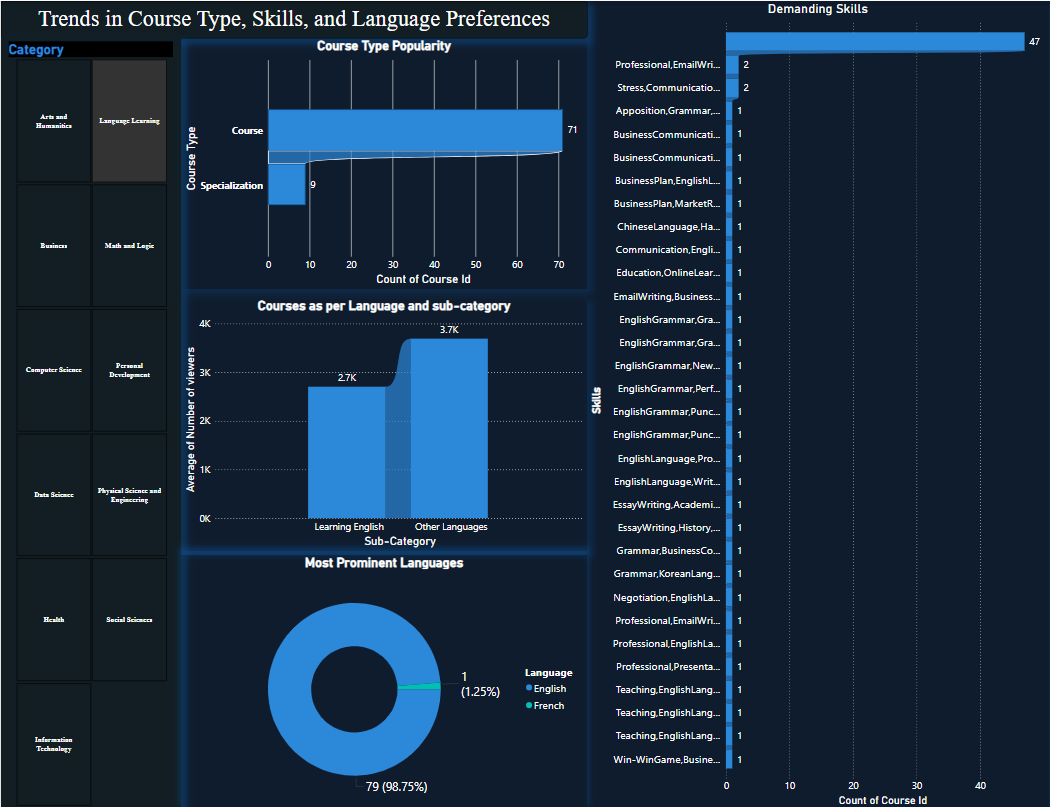

The page's visual inventory and layout, read from the dashboard file:
{"tool":"powerbi","page":{"name":"Page 2","canvas":[1750,1350],"ordinal":0},"visuals":[{"type":"textbox","box":[0,0,978.9,62.6],"z":0},{"type":"slicer","fields":{"Values":["Online_Courses.Category"]},"box":[0,62.6,300.6,1287.8],"z":1000},{"type":"barChart","title":"Course Type Popularity","fields":{"Category":["Online_Courses.Course Type"],"Y":["CountNonNull(Online_Courses.Course Id)"]},"box":[300.6,62.6,678.3,417.4],"z":1001},{"type":"columnChart","title":"Courses as per Language and sub-category","fields":{"Category":["Online_Courses.Sub-Category","Online_Courses.Language"],"Y":["Avg(Online_Courses.Number of viewers)"]},"box":[300.6,496.8,678.3,421.6],"z":1002},{"type":"barChart","title":"Demanding Skills","fields":{"Category":["Online_Courses.Skills"],"Y":["CountNonNull(Online_Courses.Course Id)"]},"box":[978.9,0,770.2,1350.4],"z":1003},{"type":"donutChart","title":"Most Prominent Languages","fields":{"Category":["Online_Courses.Language"],"Y":["CountNonNull(Online_Courses.Course Id)"]},"box":[300.6,924.6,678.3,425.8],"z":1004}]}

Visuals, with their boxes in screenshot pixels (x1, y1, x2, y2), scaled from the page's 1750x1350 canvas onto the 1050x807 screenshot:
textbox: (0, 0, 587, 37)
slicer - Online_Courses.Category: (0, 37, 180, 806)
"Course Type Popularity" barChart: (180, 37, 587, 287)
"Courses as per Language and sub-category" columnChart: (180, 297, 587, 549)
"Demanding Skills" barChart: (587, 0, 1049, 806)
"Most Prominent Languages" donutChart: (180, 553, 587, 806)
